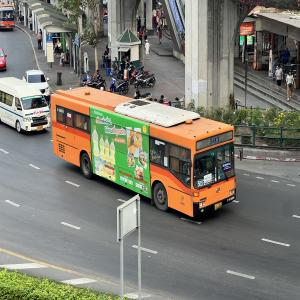BMTA-bus: (50, 88, 236, 219)
Bus Line Number: (209, 134, 221, 147)
Bus Side Number: (226, 193, 236, 203)
Destination Sign: (222, 162, 232, 171)
